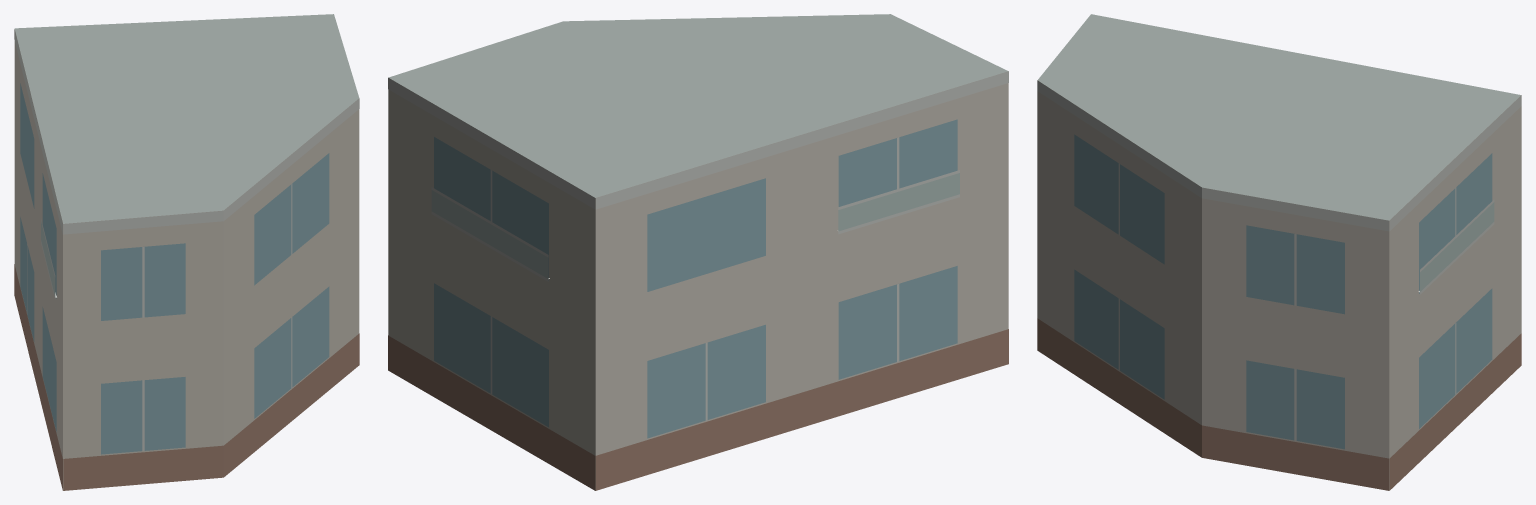
The model's file is survey-upis-32508317.glb.
3 renders of one model, left to right at view 1: azimuth 30°, elevation 25°; view 2: azimuth 150°, elevation 25°; view 3: azimuth 270°, elevation 25°, orthographic. The views are drawn at different scales.
Parts seen in each view (by area): view 1: survey-upis-32508317.tmp; view 2: survey-upis-32508317.tmp; view 3: survey-upis-32508317.tmp.
Boxes of the visible parts, x1,y1,x2,y2 form: survey-upis-32508317.tmp: [14, 14, 359, 490]; survey-upis-32508317.tmp: [388, 14, 1008, 490]; survey-upis-32508317.tmp: [1037, 14, 1521, 490].
Size of the model in its own units: 10.01 by 6.1 by 9.92.
